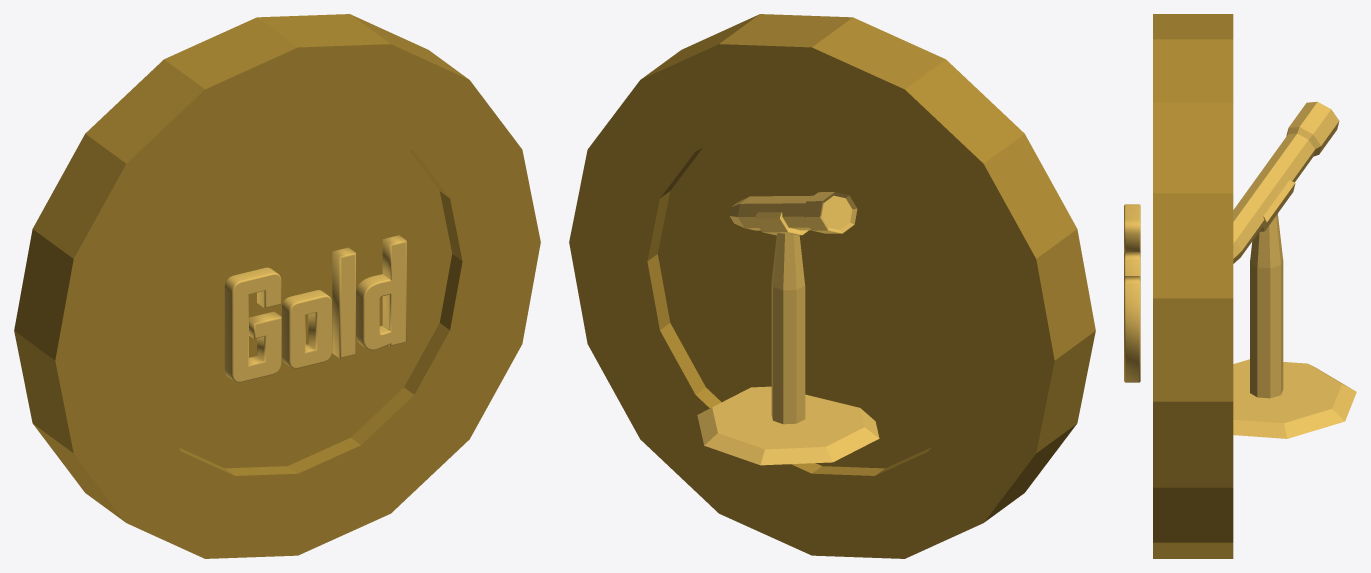
The model's file is Gold_Vocal.glb.
3 renders of one model, left to right at view 1: azimuth 30°, elevation 25°; view 2: azimuth 150°, elevation 25°; view 3: azimuth 270°, elevation 25°, orthographic. The views are drawn at different scales.
Parts seen in each view (by area): view 1: Coin, Gold_Text; view 2: Coin, Microphone; view 3: Coin, Microphone, Gold_Text.
Boxes of the visible parts, bbox=[...] form: Coin: bbox=[14, 14, 540, 558]; Gold_Text: bbox=[224, 235, 406, 382]; Coin: bbox=[569, 14, 1095, 558]; Microphone: bbox=[697, 192, 879, 465]; Coin: bbox=[1153, 14, 1233, 558]; Microphone: bbox=[1233, 101, 1356, 438]; Gold_Text: bbox=[1124, 204, 1140, 382].
Bounding box in the file's own units: 0.987 × 0.987 × 0.4212.
